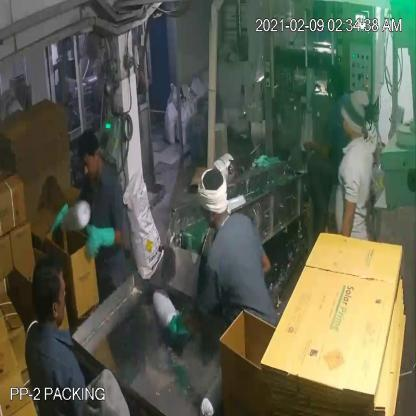glove: (74, 218, 121, 268), (161, 306, 194, 350)
no_glove: (300, 132, 332, 165), (339, 193, 360, 237)
